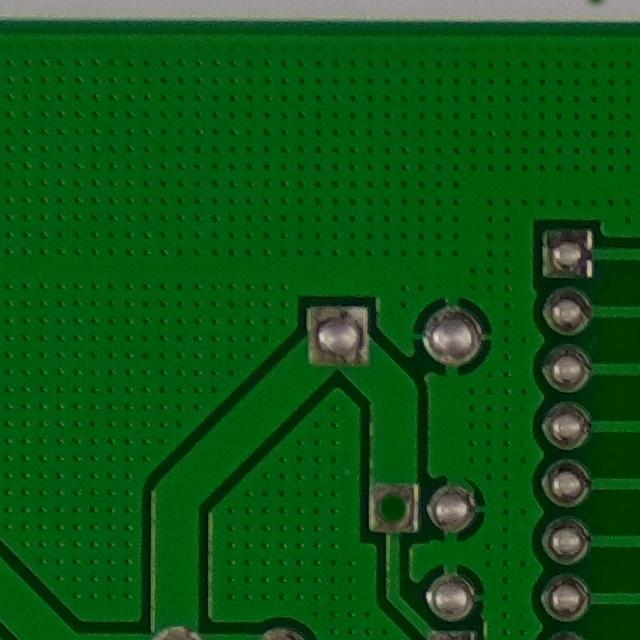missing_hole: (366, 480, 424, 542)
